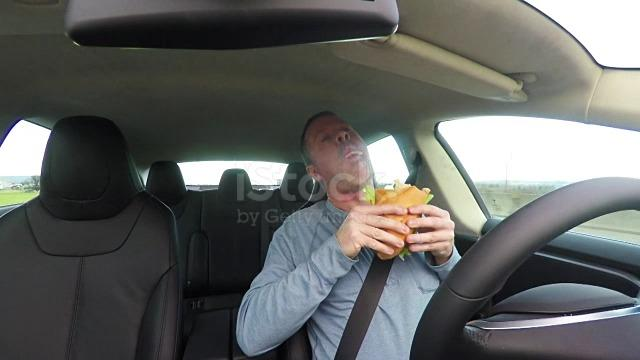Eating: (281, 108, 464, 274)
